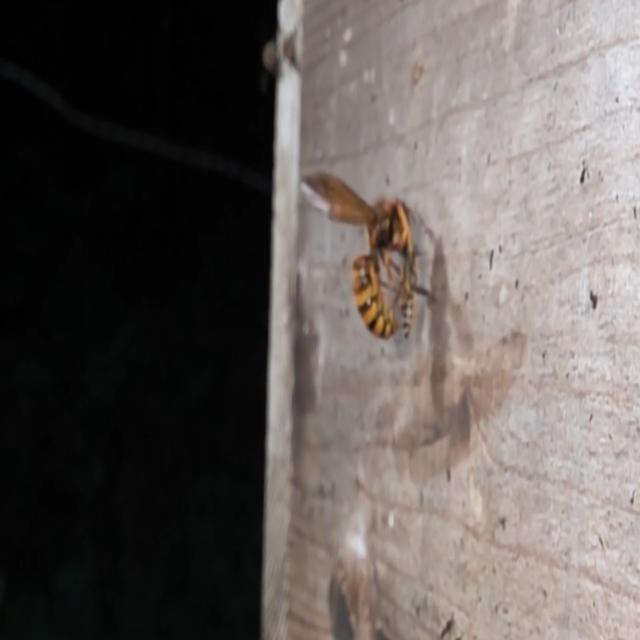Bees: (400, 264, 430, 344)
Hornets: (312, 170, 410, 349)
